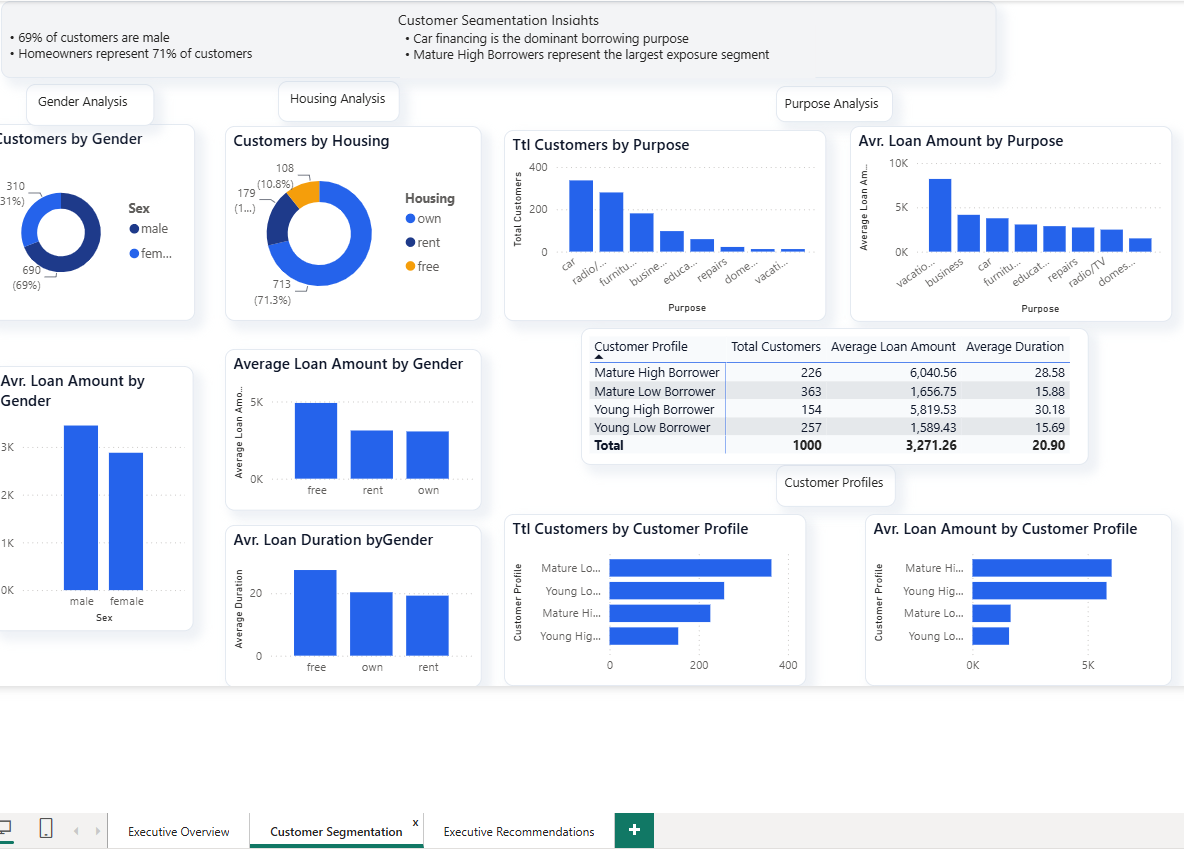

The dashboard page shown, as its layout file describes it:
{"tool":"powerbi","page":{"name":"Customer Segmentation","canvas":[1280,720],"ordinal":1},"visuals":[{"type":"donutChart","title":"Customers by Gender","fields":{"Category":["german_credit_data.Sex"],"Y":["german_credit_data.Total Customers"]},"box":[5.3,129.4,220.9,207.2],"z":0},{"type":"clusteredColumnChart","title":"Avr. Loan Amount by Gender","fields":{"Category":["german_credit_data.Sex"],"Y":["german_credit_data.Average Loan Amount"]},"box":[12.6,383.9,212.5,278.7],"z":1000},{"type":"textbox","box":[48.4,87.3,134.6,44.2],"z":2000},{"type":"textbox","box":[313.4,84.1,128.3,43.1],"z":3000},{"type":"donutChart","title":"Customers by Housing","fields":{"Y":["german_credit_data.Total Customers"],"Category":["german_credit_data.Housing"]},"box":[257.7,131.5,270.3,205.1],"z":4000},{"type":"clusteredColumnChart","title":"Average Loan Amount by Gender","fields":{"Y":["german_credit_data.Average Loan Amount"],"Category":["german_credit_data.Housing"]},"box":[257.7,366,270.3,170.4],"z":5000},{"type":"clusteredColumnChart","title":"Avr. Loan Duration byGender","fields":{"Category":["german_credit_data.Housing"],"Y":["german_credit_data.Average Duration"]},"box":[257.7,551.1,270.3,171.4],"z":6000},{"type":"textbox","box":[837.2,89.4,123.1,37.9],"z":7000},{"type":"clusteredColumnChart","title":"Ttl Customers by Purpose","fields":{"Category":["german_credit_data.Purpose"],"Y":["german_credit_data.Total Customers"]},"box":[551.1,135.7,338.7,200.9],"z":8000},{"type":"clusteredColumnChart","title":"Avr. Loan Amount by Purpose","fields":{"Category":["german_credit_data.Purpose"],"Y":["german_credit_data.Average Loan Amount"]},"box":[915,131.5,338.7,206.1],"z":9000},{"type":"textbox","box":[837.2,488,126.2,44.2],"z":10000},{"type":"clusteredBarChart","title":"Ttl Customers by Customer Profile","fields":{"Y":["german_credit_data.Total Customers"],"Category":["german_credit_data.Customer Profile"]},"box":[551.1,539.6,317.6,180.9],"z":11000},{"type":"clusteredBarChart","title":"Avr. Loan Amount by Customer Profile","fields":{"Category":["german_credit_data.Customer Profile"],"Y":["german_credit_data.Average Loan Amount"]},"box":[930.8,539.6,322.9,180.9],"z":12000},{"type":"textbox","box":[22,0,1046.5,81.5],"z":13000},{"type":"textbox","box":[441.6,25.7,437.1,55.9],"z":14000},{"type":"pivotTable","fields":{"Rows":["german_credit_data.Customer Profile"],"Values":["german_credit_data.Total Customers","german_credit_data.Average Loan Amount","german_credit_data.Average Duration"]},"box":[632.1,343.9,534.3,144.1],"z":15000}]}

Visuals, with their boxes on the page's 1280x720 design canvas (x1, y1, x2, y2). These are canvas units, not pixel positions in the 1184x849 screenshot, which may show the page scaled, cropped or inside an application window:
"Customers by Gender" donutChart: {"x1": 5, "y1": 129, "x2": 226, "y2": 337}
"Avr. Loan Amount by Gender" clusteredColumnChart: {"x1": 13, "y1": 384, "x2": 225, "y2": 663}
textbox: {"x1": 48, "y1": 87, "x2": 183, "y2": 132}
textbox: {"x1": 313, "y1": 84, "x2": 442, "y2": 127}
"Customers by Housing" donutChart: {"x1": 258, "y1": 132, "x2": 528, "y2": 337}
"Average Loan Amount by Gender" clusteredColumnChart: {"x1": 258, "y1": 366, "x2": 528, "y2": 536}
"Avr. Loan Duration byGender" clusteredColumnChart: {"x1": 258, "y1": 551, "x2": 528, "y2": 722}
textbox: {"x1": 837, "y1": 89, "x2": 960, "y2": 127}
"Ttl Customers by Purpose" clusteredColumnChart: {"x1": 551, "y1": 136, "x2": 890, "y2": 337}
"Avr. Loan Amount by Purpose" clusteredColumnChart: {"x1": 915, "y1": 132, "x2": 1254, "y2": 338}
textbox: {"x1": 837, "y1": 488, "x2": 963, "y2": 532}
"Ttl Customers by Customer Profile" clusteredBarChart: {"x1": 551, "y1": 540, "x2": 869, "y2": 720}
"Avr. Loan Amount by Customer Profile" clusteredBarChart: {"x1": 931, "y1": 540, "x2": 1254, "y2": 720}
textbox: {"x1": 22, "y1": 0, "x2": 1068, "y2": 82}
textbox: {"x1": 442, "y1": 26, "x2": 879, "y2": 82}
pivotTable - german_credit_data.Customer Profile x german_credit_data.Total Customers: {"x1": 632, "y1": 344, "x2": 1166, "y2": 488}
